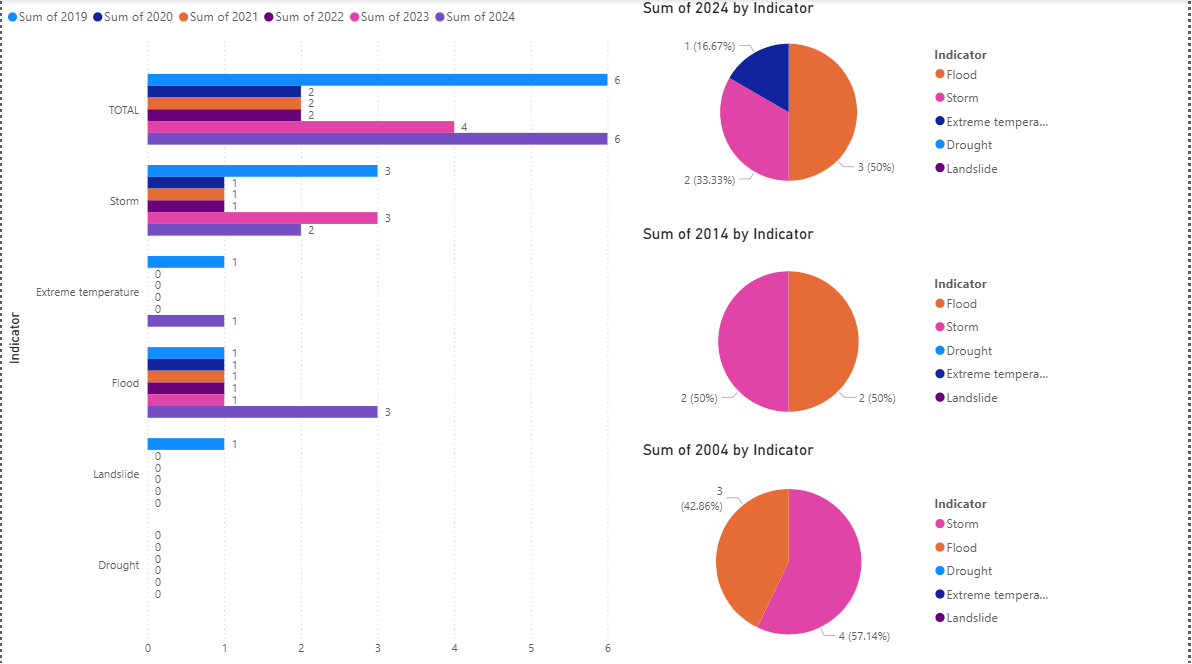

The dashboard page shown, as its layout file describes it:
{"tool":"powerbi","page":{"name":"Page 1","canvas":[1280,720],"ordinal":0},"visuals":[{"type":"clusteredBarChart","fields":{"Category":["Sheet1.Indicator"],"Y":["Sum(Sheet1.2019)","Sum(Sheet1.2020)","Sum(Sheet1.2021)","Sum(Sheet1.2022)","Sum(Sheet1.2023)","Sum(Sheet1.2024)"]},"box":[0,0,676.8,720.6],"z":1},{"type":"pieChart","fields":{"Category":["Sheet1 (2).Indicator"],"Y":["Sum(Sheet1 (2).2024)"]},"box":[686.6,0,459.9,226.7],"z":2},{"type":"pieChart","fields":{"Category":["Sheet1 (2).Indicator"],"Y":["Sum(Sheet1 (2).2014)"]},"box":[686.6,244.5,459.9,233.2],"z":3},{"type":"pieChart","fields":{"Category":["Sheet1 (2).Indicator"],"Y":["Sum(Sheet1 (2).2004)"]},"box":[687,478,460,242],"z":4}]}

Visuals, with their boxes in screenshot pixels (x1, y1, x2, y2), scaled from the page's 1280x720 canvas onto the 1192x664 screenshot:
clusteredBarChart - Sheet1.Indicator x Sum(Sheet1.2019): (left=0, top=0, right=630, bottom=663)
pieChart - Sheet1 (2).Indicator x Sum(Sheet1 (2).2024): (left=639, top=0, right=1068, bottom=209)
pieChart - Sheet1 (2).Indicator x Sum(Sheet1 (2).2014): (left=639, top=225, right=1068, bottom=441)
pieChart - Sheet1 (2).Indicator x Sum(Sheet1 (2).2004): (left=640, top=441, right=1068, bottom=663)
